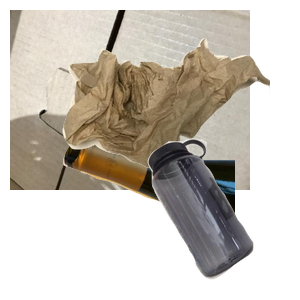cardboard: (10, 10, 250, 190)
glass: (60, 128, 300, 300)
plastic: (145, 136, 300, 300)
trash: (60, 36, 300, 198)
